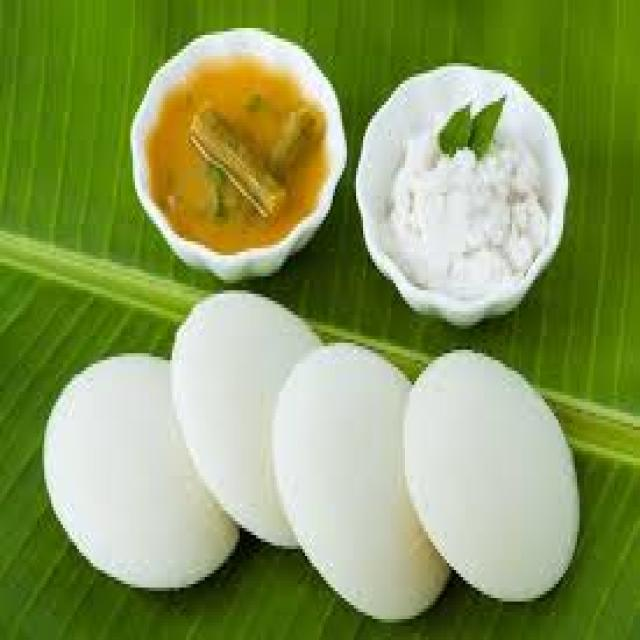IDLI: (269, 346, 452, 623), (405, 351, 579, 606), (45, 357, 237, 585), (171, 293, 321, 548)
